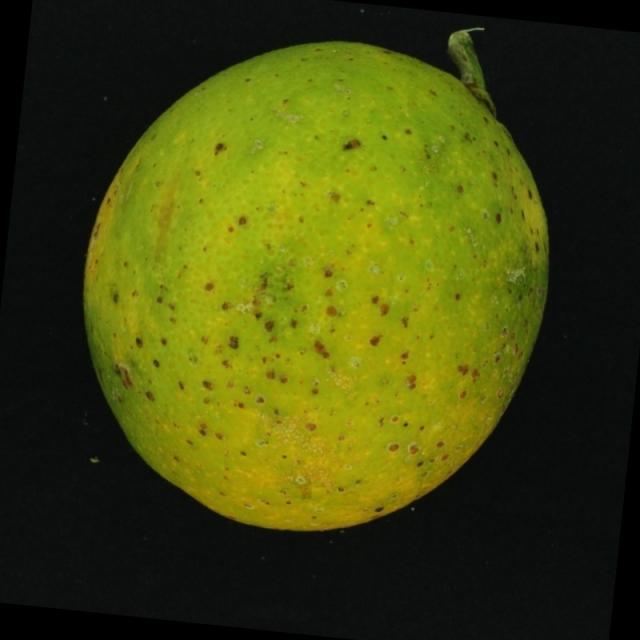grenning: (52, 22, 592, 549)
